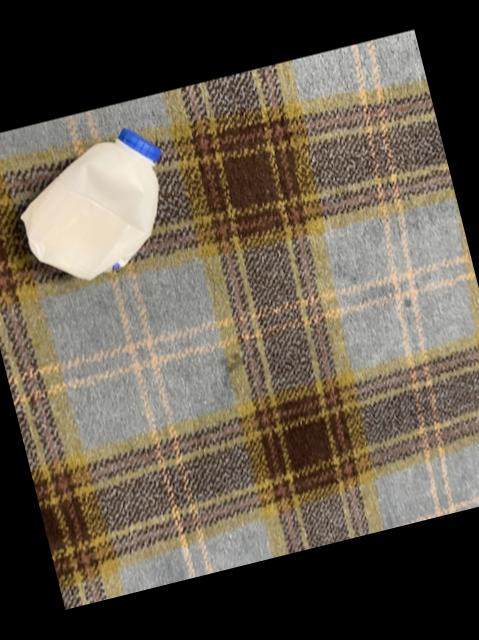plastic: (19, 131, 158, 282)
